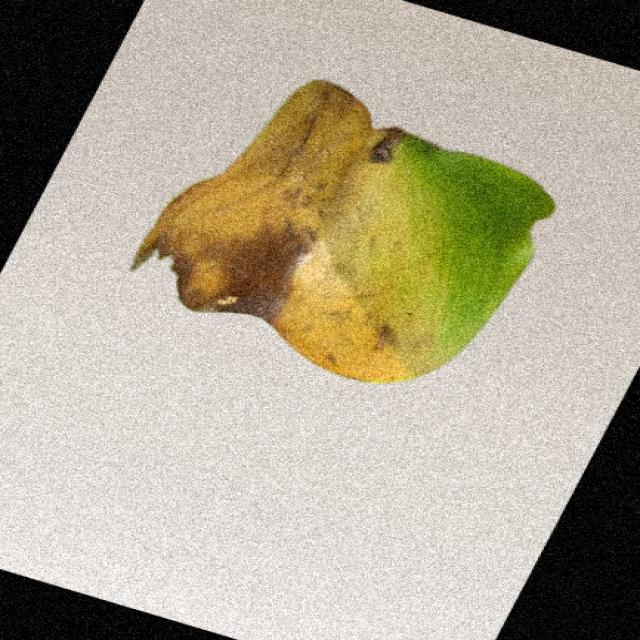daun berpenyakit kuning: (132, 80, 555, 382)
